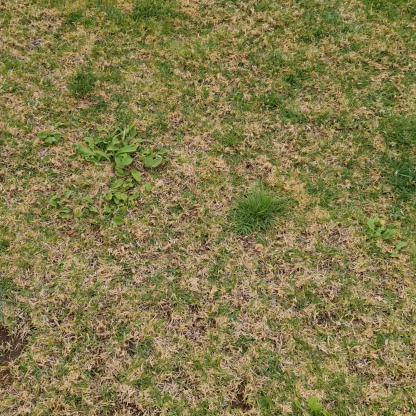Weeds: (49, 123, 168, 229), (366, 218, 407, 258), (38, 122, 68, 147), (294, 397, 333, 415)
